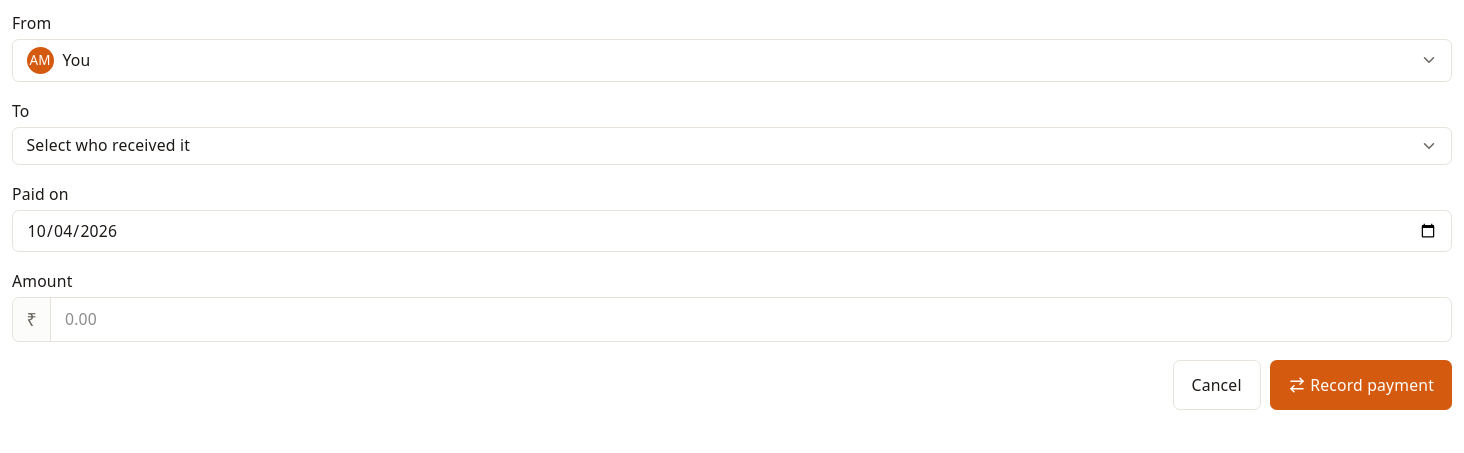
it: RecordPaymentForm › shows a validation error when the amount is zero
Click the button with aria-label "To" at (108, 145), box [12, 126, 1452, 164]
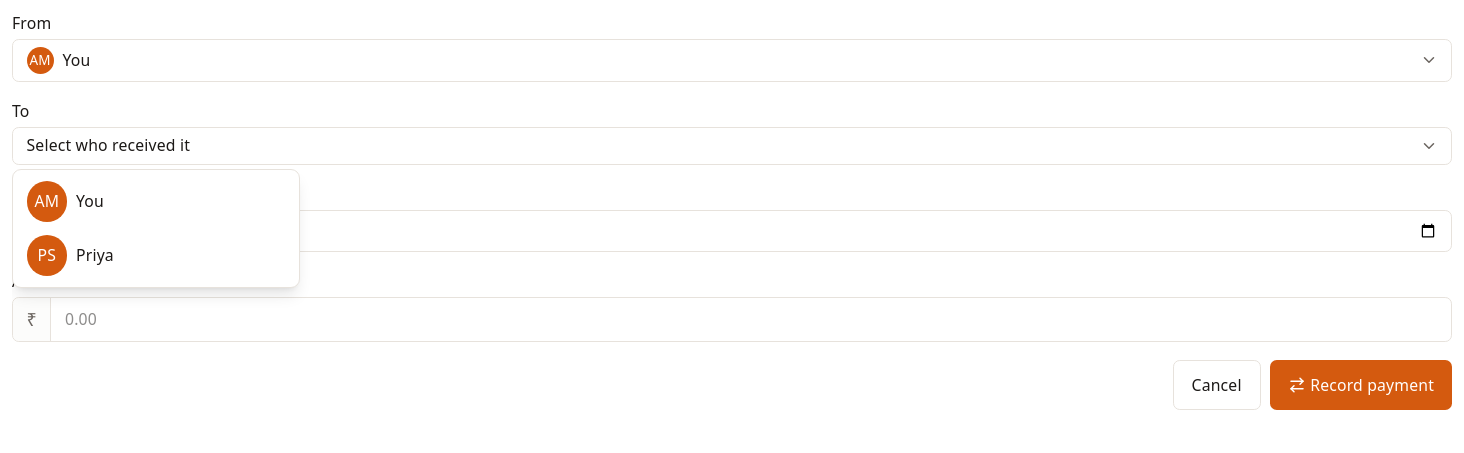
Click the menu item with aria-label "priya sharma" at (47, 256), box [26, 235, 114, 276]
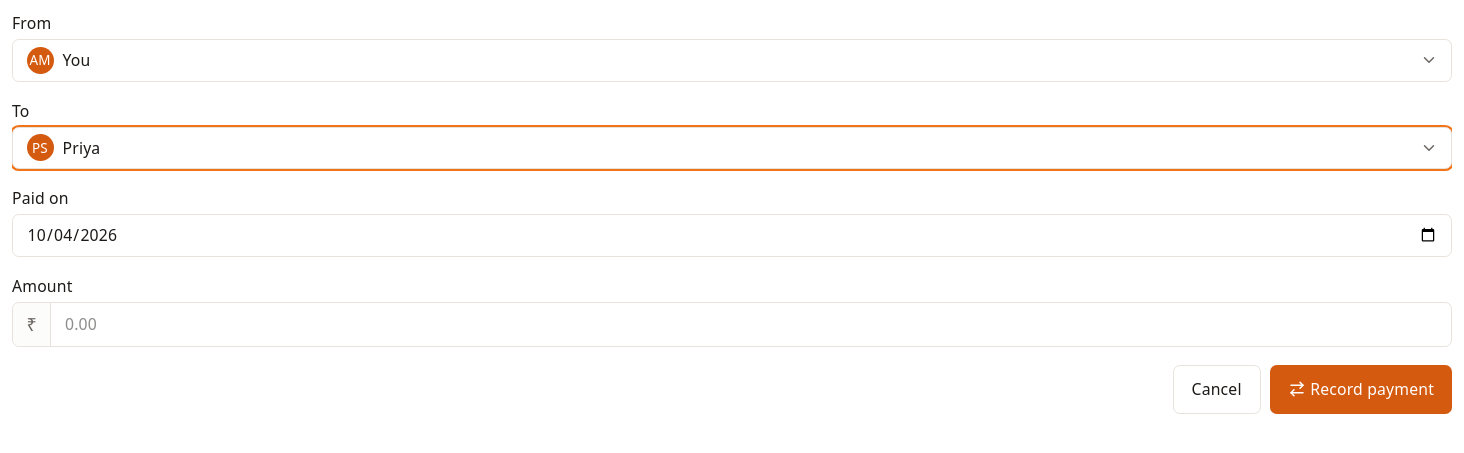
Type "0" into the number field labelled "Amount" at (751, 324), box [52, 302, 1451, 346]
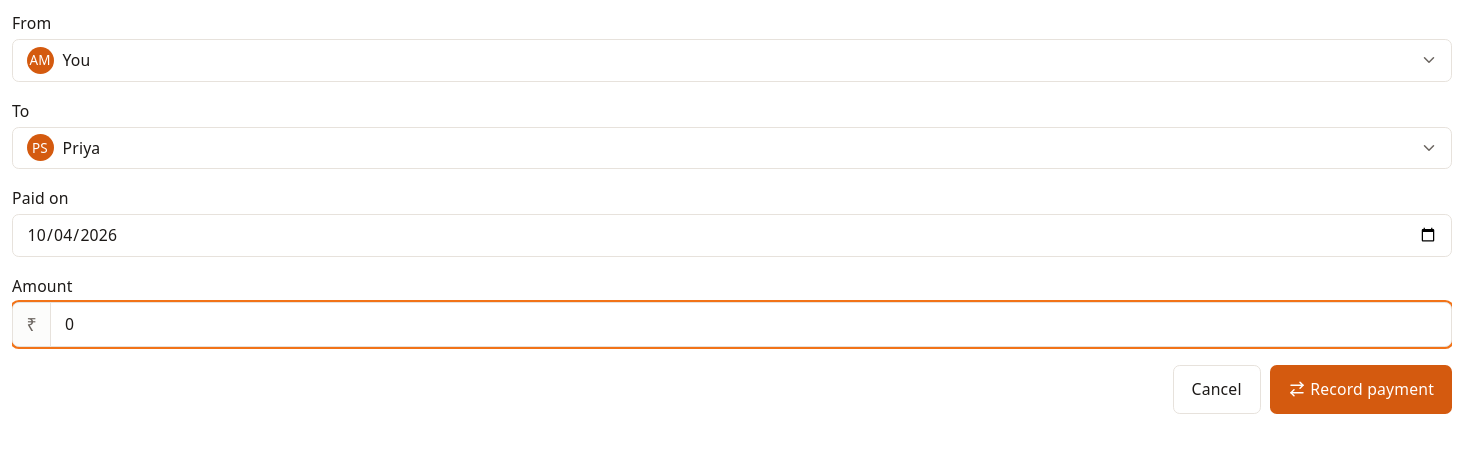
Click the button "Record payment" at (1361, 389), box [1270, 364, 1452, 414]
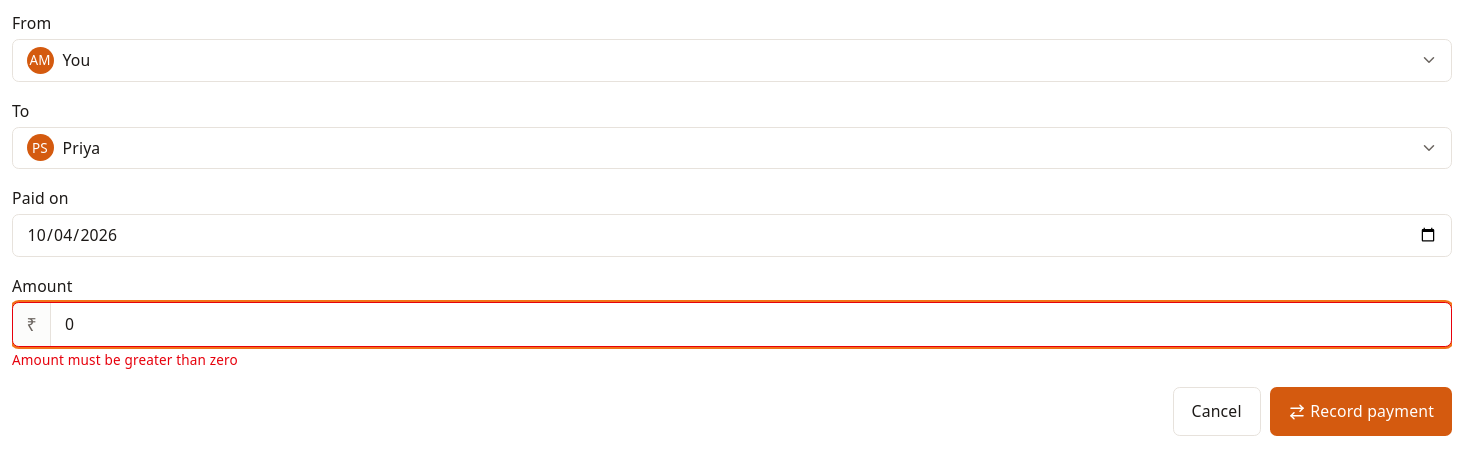
Now the text "Amount must be greater than zero" is shown, box [12, 351, 238, 369]
